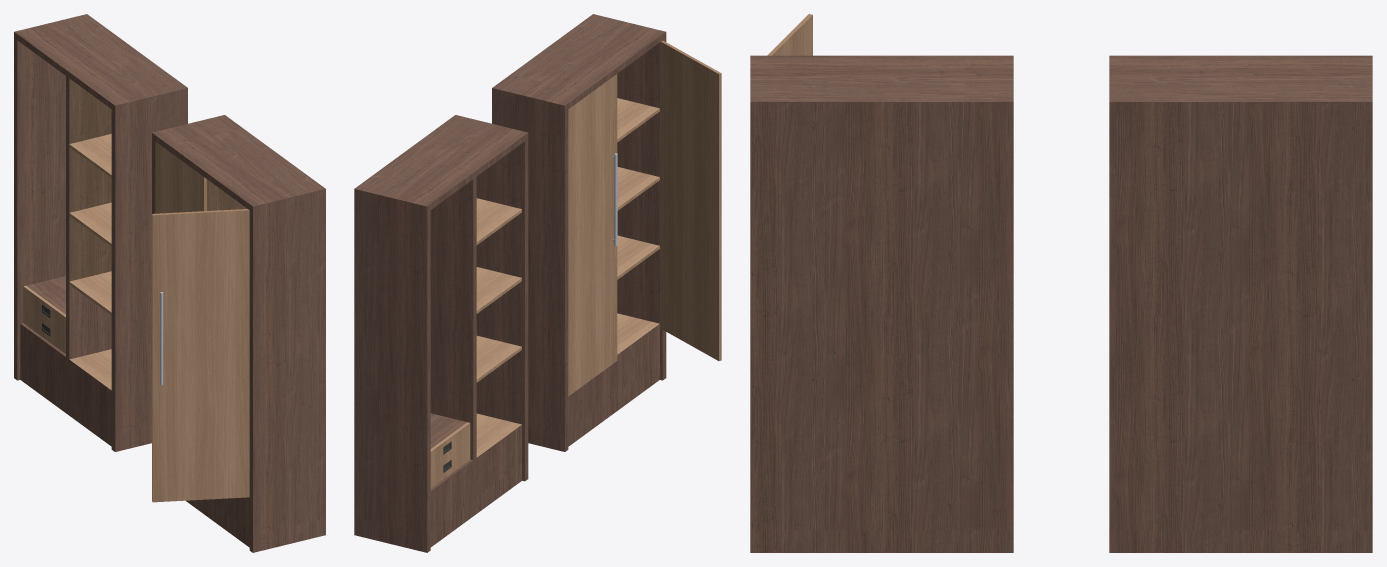
The model's file is 3d modelling komponen interior lemari (SU 2020).fbx.
The picture shows the model from 3 angles, left to right: view 1: azimuth 30°, elevation 25°; view 2: azimuth 150°, elevation 25°; view 3: azimuth 270°, elevation 25°; orthographic projection. The views are drawn at different scales.
Visible parts, largest first — view 1: Model, Group10, Group16; view 2: Model, Group10, Group16; view 3: Model, Group10.
Part boxes in pixels (<box>): Model: <box>14,14,325,552</box>; Group10: <box>152,209,249,502</box>; Group16: <box>155,141,206,213</box>; Model: <box>354,14,666,552</box>; Group10: <box>660,40,721,360</box>; Group16: <box>568,74,617,396</box>; Model: <box>750,55,1372,552</box>; Group10: <box>767,14,812,55</box>.
Bounding box in the file's own units: 103 × 227 × 284.
